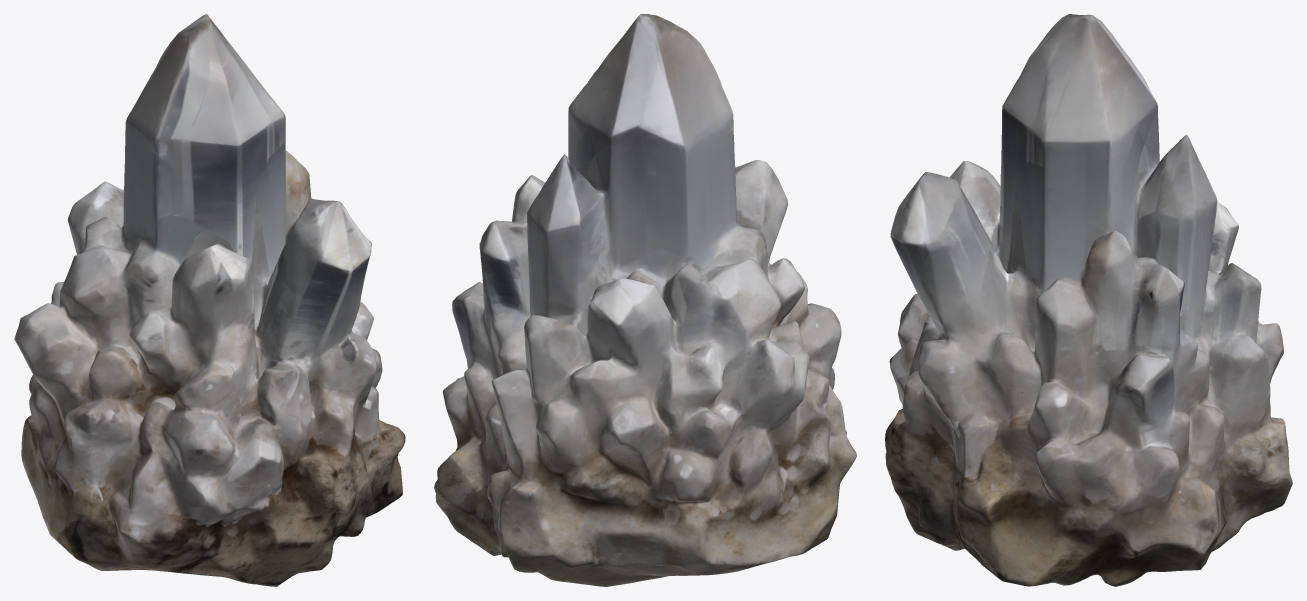
The model's file is AI_QuartzOre.fbx.
The picture shows the model from 3 angles, left to right: view 1: azimuth 30°, elevation 25°; view 2: azimuth 150°, elevation 25°; view 3: azimuth 270°, elevation 25°; orthographic projection. The views are drawn at different scales.
Visible parts, largest first — view 1: Mesh1.0; view 2: Mesh1.0; view 3: Mesh1.0.
Part boxes in pixels (bbox=[...]): Mesh1.0: bbox=[14, 14, 405, 586]; Mesh1.0: bbox=[434, 14, 856, 586]; Mesh1.0: bbox=[885, 14, 1292, 586].
Size of the model in its own units: 132 by 199 by 139.
Materials: 1 (1 with a texture image).
